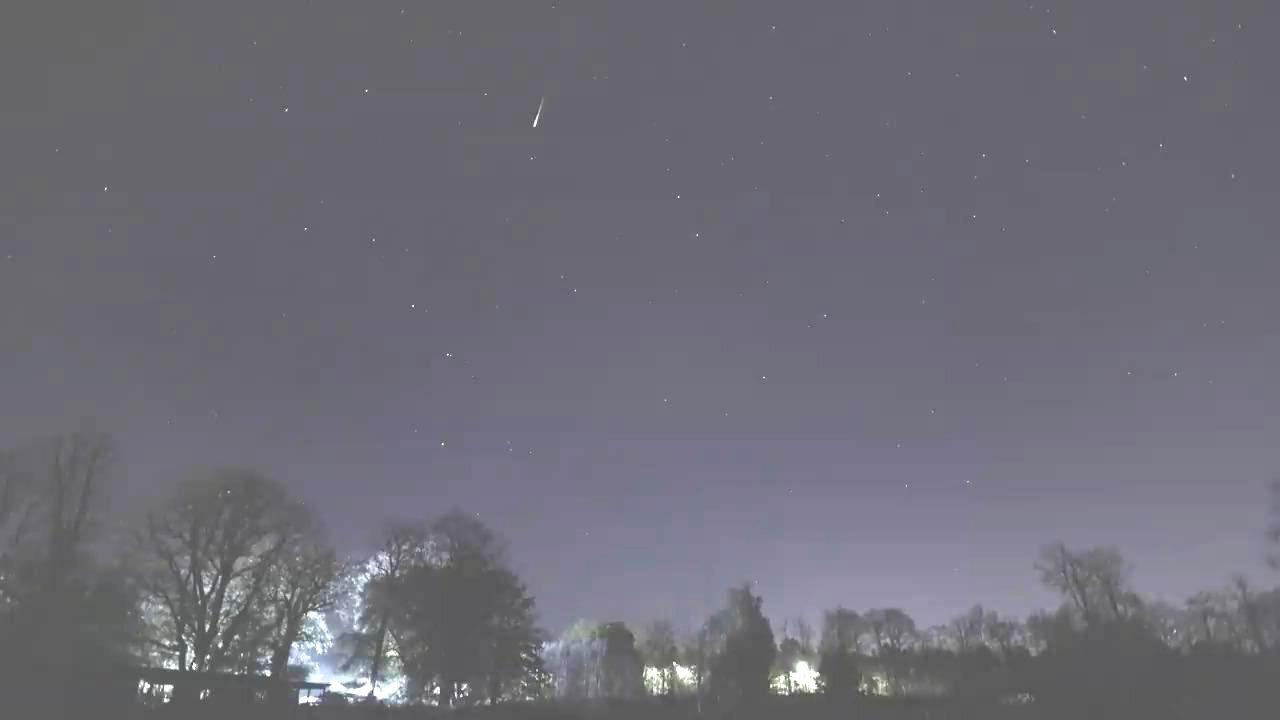meteorite: (487, 95, 594, 132)
